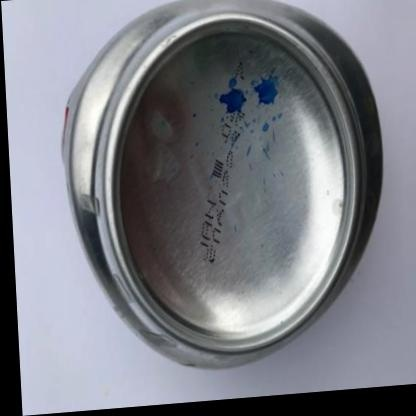trash: (63, 0, 381, 366)
